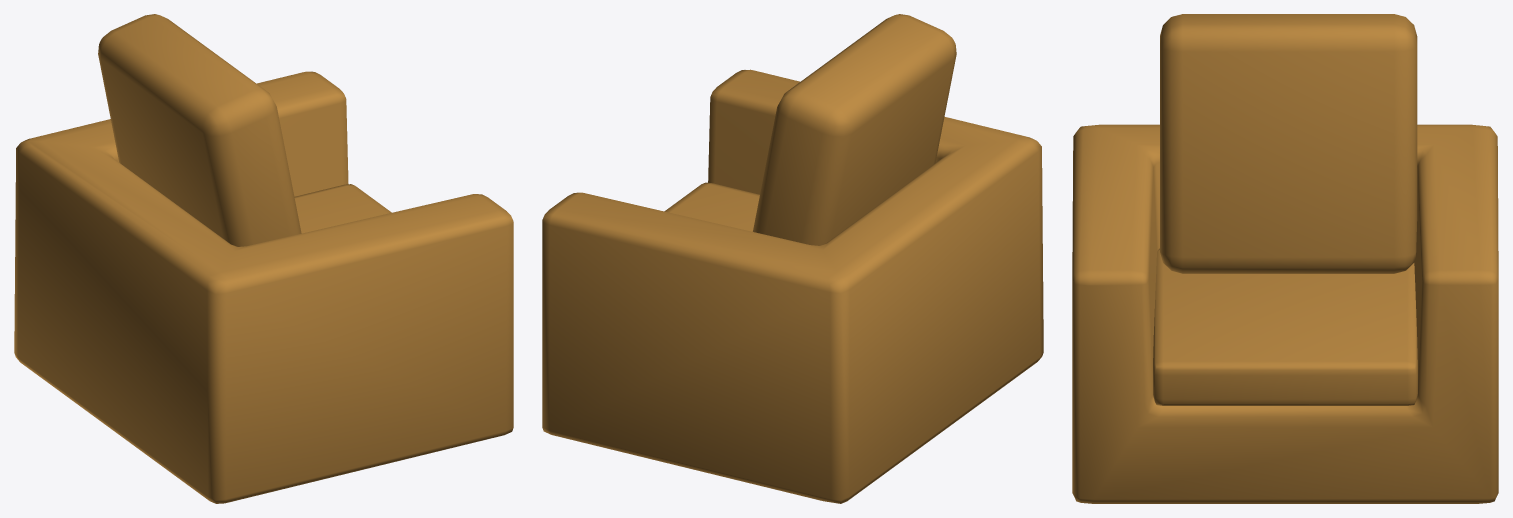
The model's file is Couch1.fbx.
The picture shows the model from 3 angles, left to right: view 1: azimuth 30°, elevation 25°; view 2: azimuth 150°, elevation 25°; view 3: azimuth 270°, elevation 25°; orthographic projection. The views are drawn at different scales.
Parts seen in each view (by area): view 1: Couch1; view 2: Couch1; view 3: Couch1.
Part boxes in pixels (bbox=[...]): Couch1: bbox=[14, 14, 513, 503]; Couch1: bbox=[542, 14, 1043, 503]; Couch1: bbox=[1072, 14, 1498, 503].
Size of the model in its own units: 1.18 by 1.36 by 1.32.
